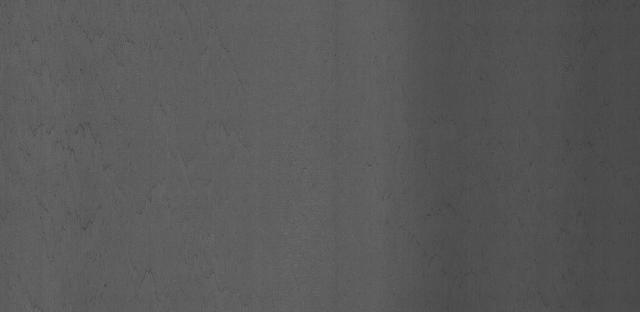silk_spot: (42, 25, 181, 248)
